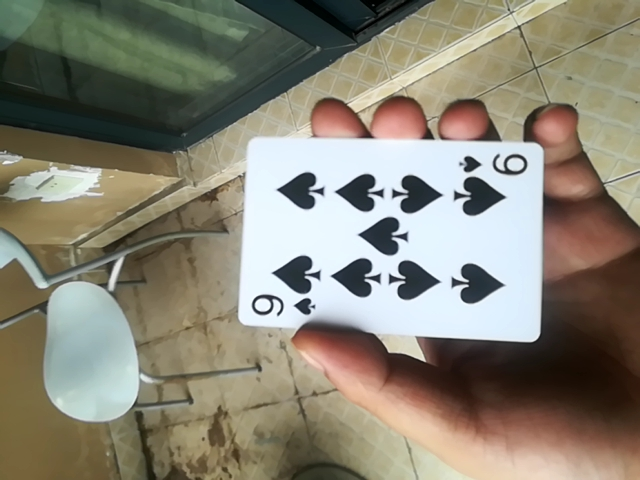ht 9: (230, 131, 550, 343)
